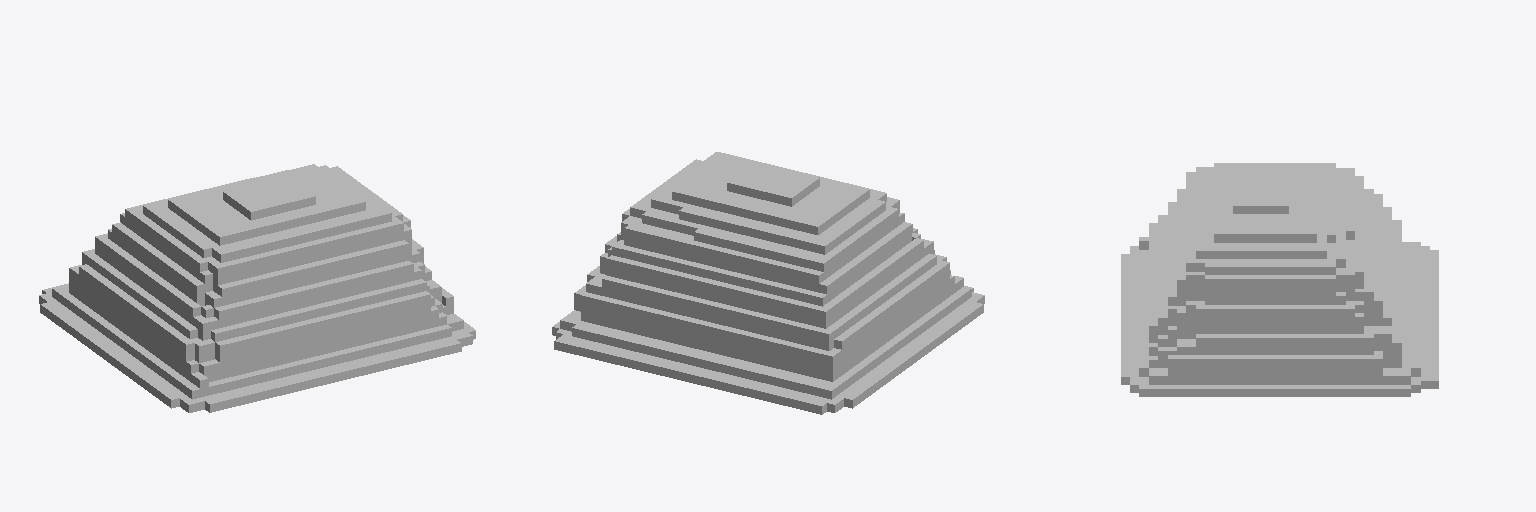
File: ore veign.obj
3 renders of one model, left to right at view 1: azimuth 30°, elevation 25°; view 2: azimuth 150°, elevation 25°; view 3: azimuth 270°, elevation 25°, orthographic.
Visible parts, largest first — view 1: ore veign; view 2: ore veign; view 3: ore veign.
Boxes of the visible parts, <box> form: ore veign: <box>39,164,475,412</box>; ore veign: <box>552,152,984,414</box>; ore veign: <box>1121,163,1438,396</box>.
Size of the model in its own units: 37 by 16 by 34.